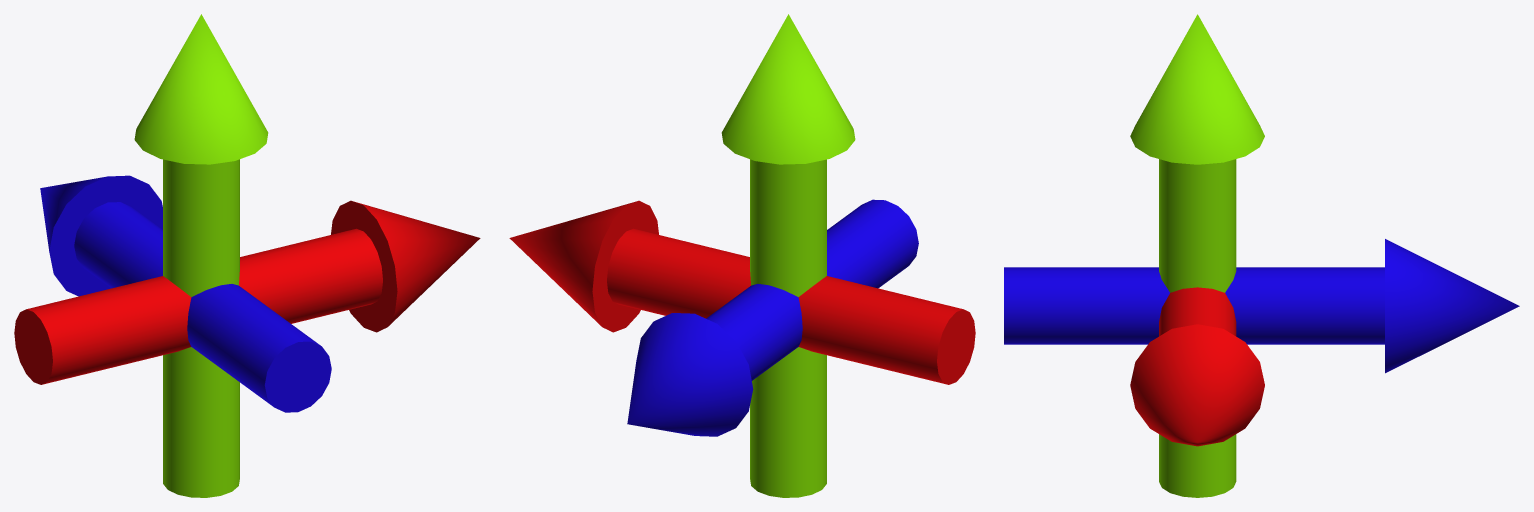
Rendered from Gimbal.fbx.
3 views of the same model, side by side, from view 1: azimuth 30°, elevation 25°; view 2: azimuth 150°, elevation 25°; view 3: azimuth 270°, elevation 25° (orthographic).
Parts seen in each view (by area): view 1: Right.001, Right, Forward; view 2: Right.001, Right, Forward; view 3: Forward, Right.001, Right.
Part boxes in pixels (<box>): Right.001: <box>134,14,268,497</box>; Right: <box>14,200,480,384</box>; Forward: <box>40,175,331,412</box>; Right.001: <box>721,14,855,497</box>; Right: <box>509,200,975,384</box>; Forward: <box>627,199,918,436</box>; Forward: <box>1004,239,1519,373</box>; Right.001: <box>1130,14,1264,497</box>; Right: <box>1130,287,1264,446</box>.
Size of the model in its own units: 1.33 by 1.33 by 1.33.
